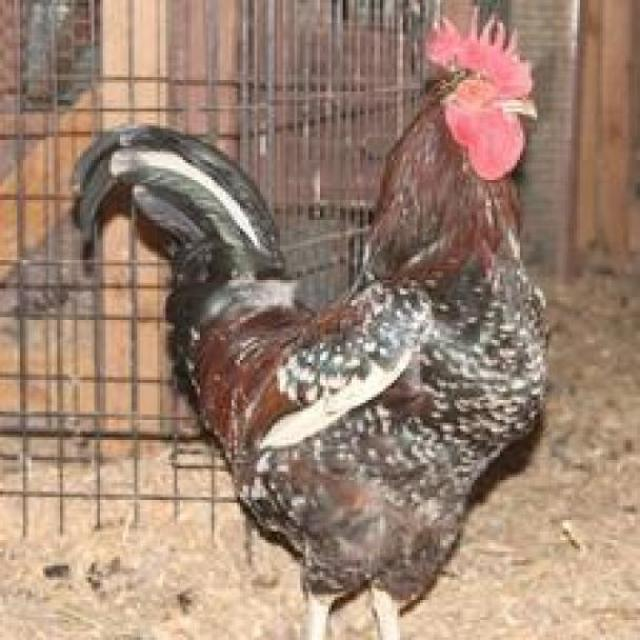Chicken: (52, 16, 571, 640)
